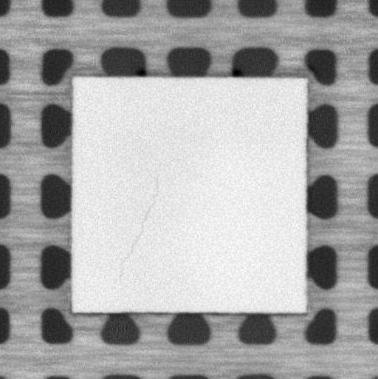DIE_CRACK: (118, 176, 160, 279)
